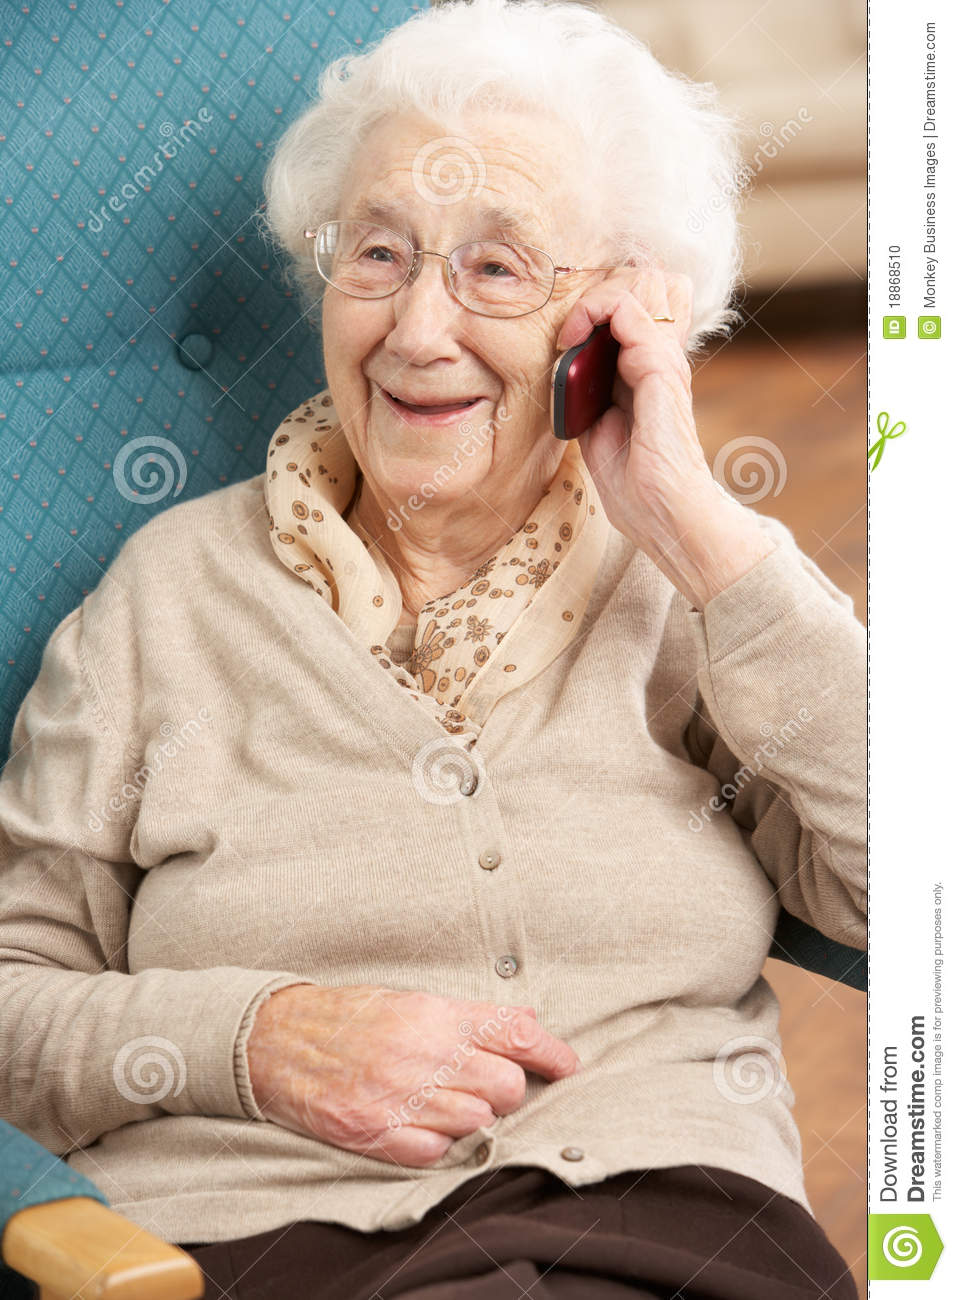talk: (320, 204, 709, 531)
